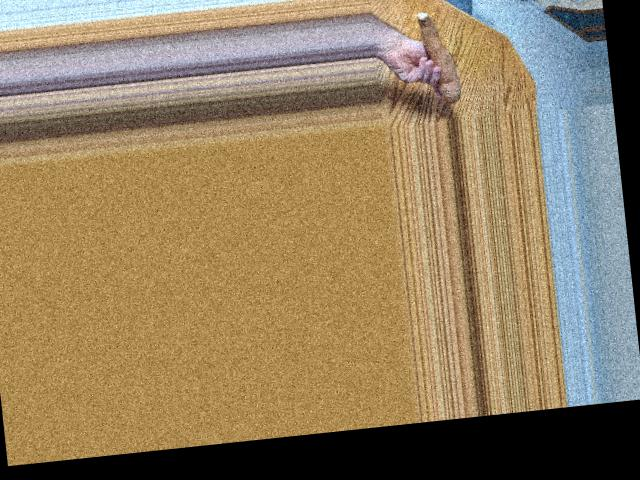sweet_potato: (413, 6, 466, 102)
